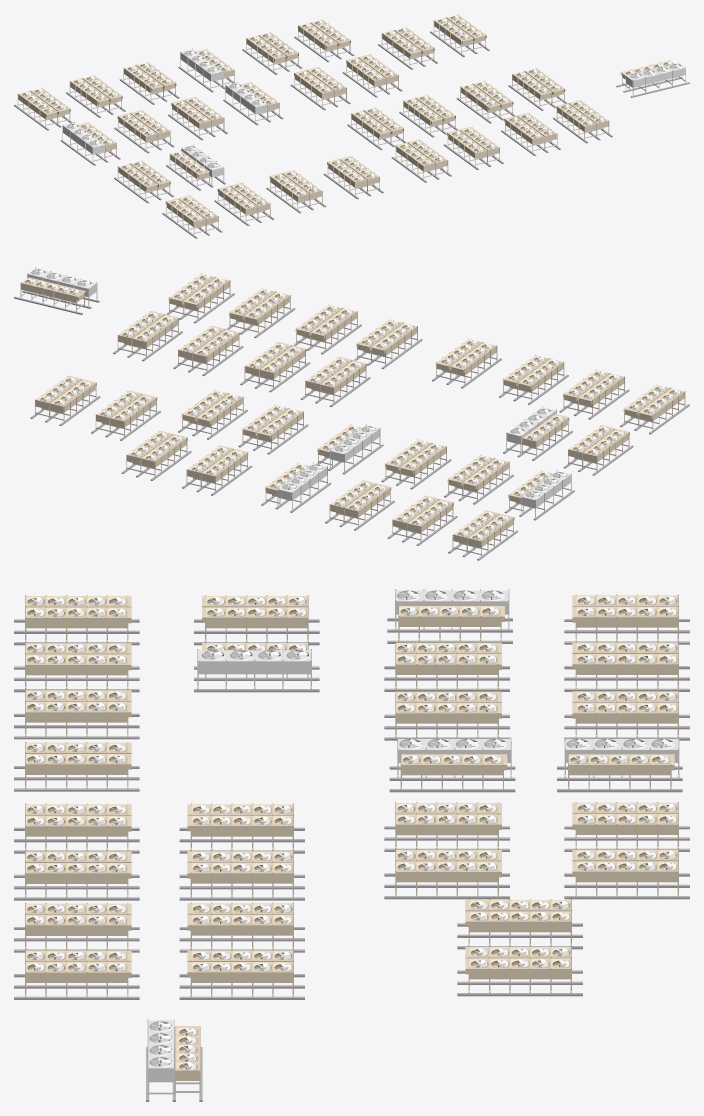
Rendered from Rooftop-ACUnits.dae.
3 views of the same model, one above another, from view 1: azimuth 30°, elevation 25°; view 2: azimuth 150°, elevation 25°; view 3: azimuth 270°, elevation 25° (orthographic). The views are drawn at different scales.
Bounding box in the file's own units: 1773 × 1051 × 56.45.
